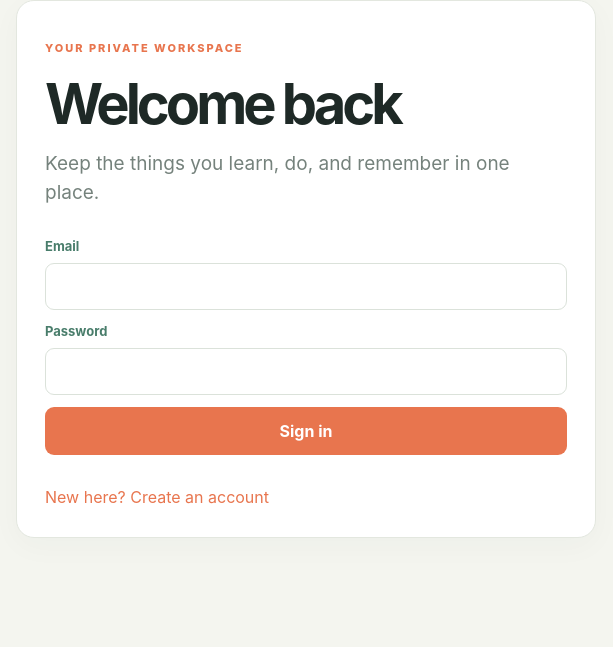
Scenario: AuthView › shows an actionable error when authentication fails
Type "learner@example.com" into the field labelled "Email" at (306,287), box top-left (45, 263), bottom-right (567, 310)
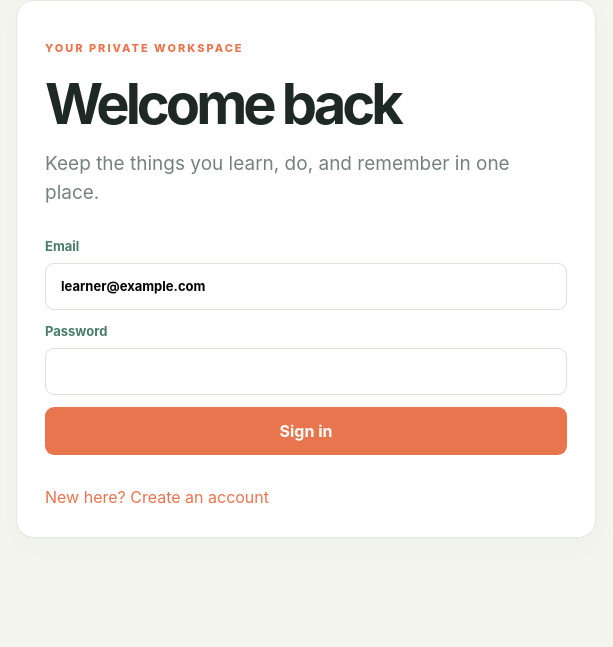
Type "a-secure-password" into the password field labelled "Password" at (306,372), box top-left (45, 348), bottom-right (567, 395)
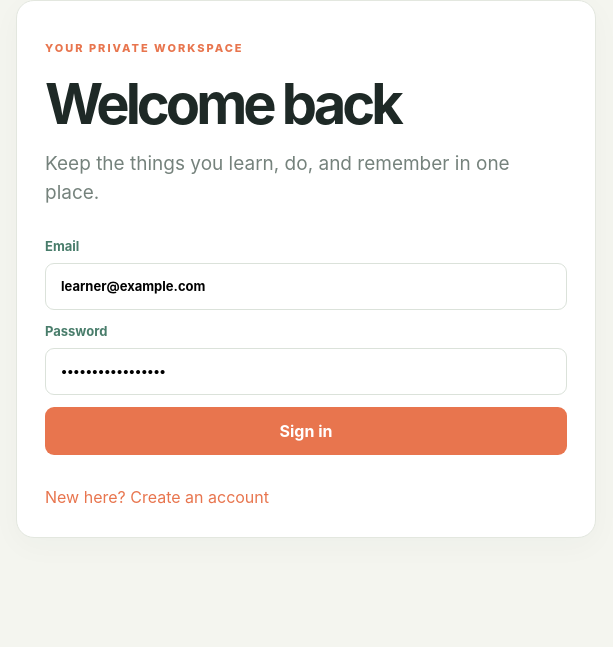
Submit the form, box top-left (45, 237), bottom-right (567, 455)
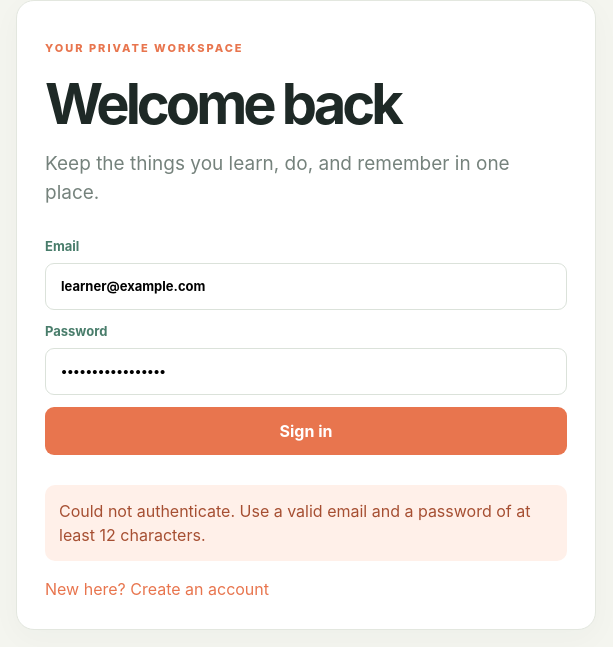
Now the message shows "valid email", box top-left (59, 501), bottom-right (530, 545)
